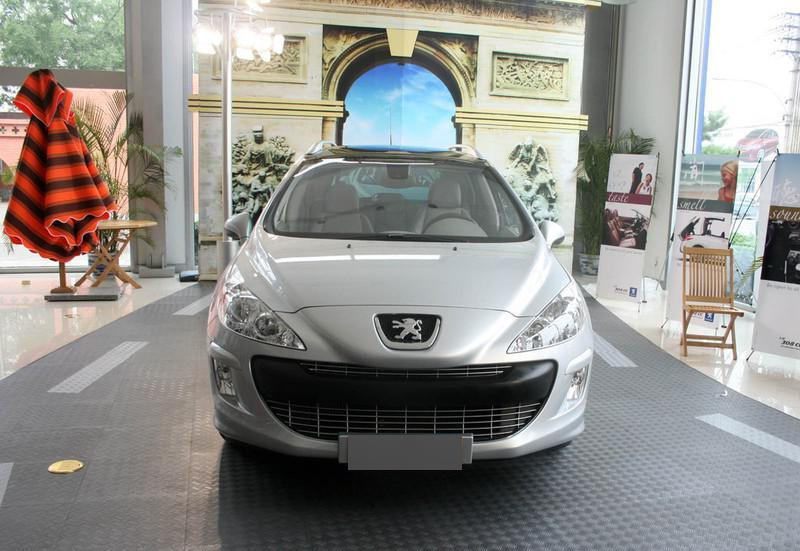Wagon: (205, 140, 595, 471)
